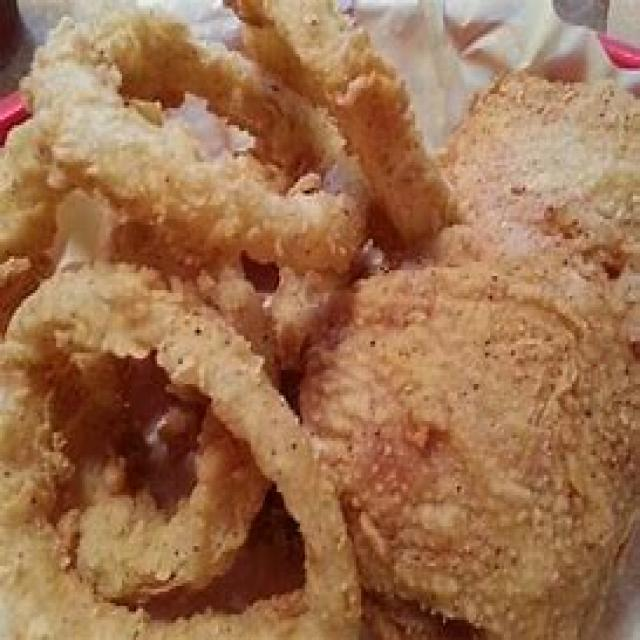Chicken Wings: (328, 14, 638, 620)
Onion Rings: (2, 0, 368, 640)
